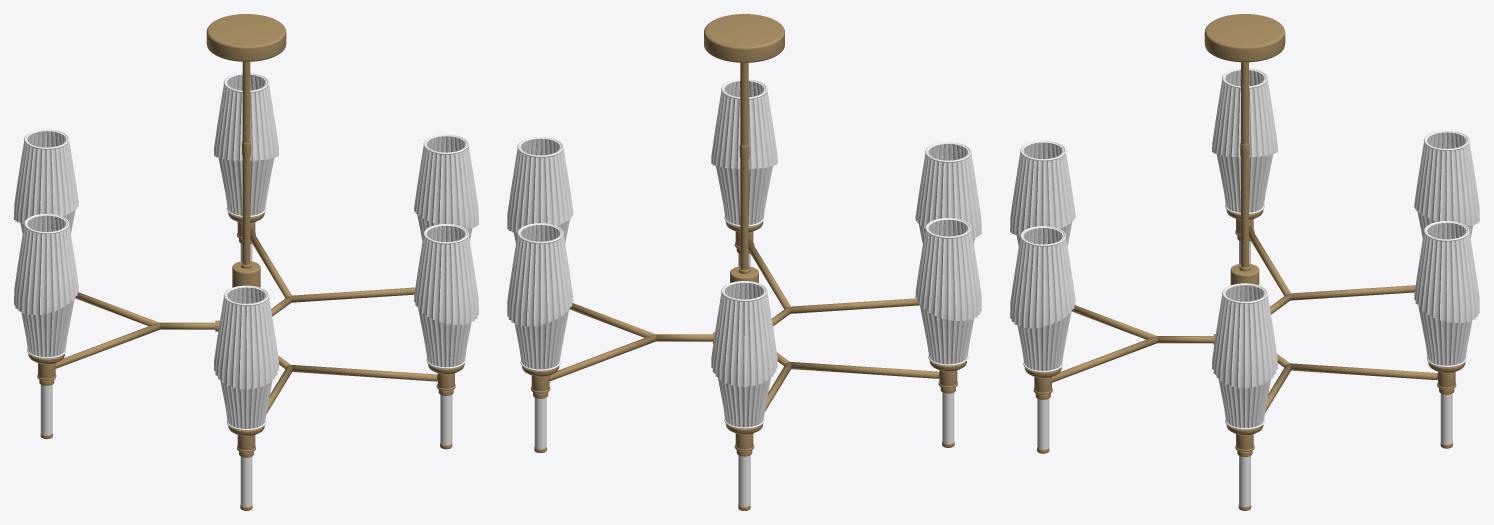
The picture shows the model from 3 angles, left to right: view 1: azimuth 30°, elevation 25°; view 2: azimuth 150°, elevation 25°; view 3: azimuth 270°, elevation 25°; orthographic projection. The views are drawn at different scales.
Visible parts, largest first — view 1: glass, brass; view 2: glass, brass; view 3: glass, brass.
Boxes of the visible parts, x1,y1,x2,y2 form: glass: (14,73,478,506); brass: (28,14,464,510); glass: (507,79,981,506); brass: (522,14,966,510); glass: (1010,68,1479,506); brass: (1024,14,1465,510).
Size of the model in its own units: 0.6629 by 0.529 by 0.5847.
Materials: 5 (5 with a texture image).
